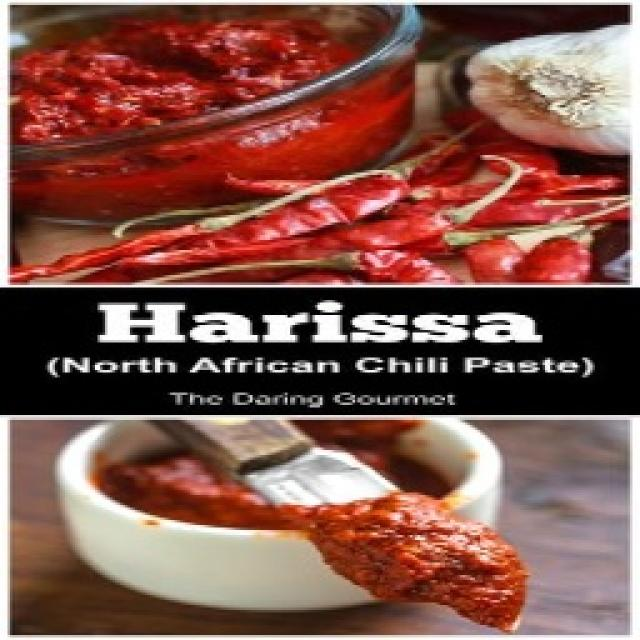Harissa: (12, 5, 628, 288), (100, 421, 571, 633), (98, 299, 450, 346)
